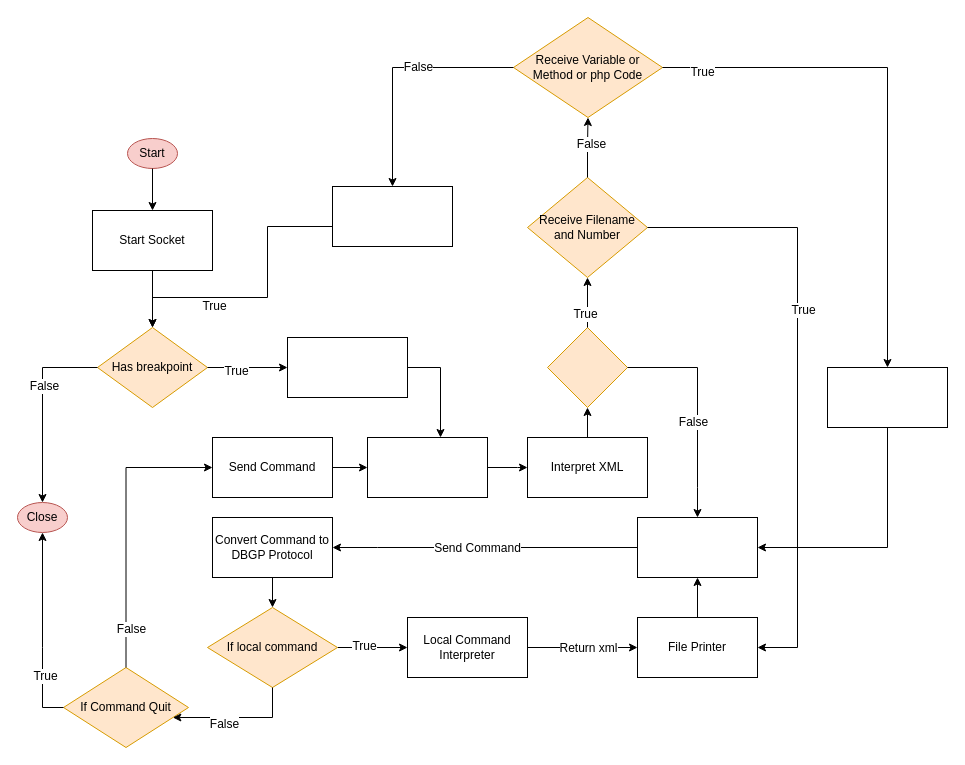
This 965x765 diagram has some shape labels left out. Here are the shapes that lost their labels. From the top down, the centre of each, then its label:
the point at 392,216: Command run
the point at 347,367: Stop in Breakpoint
the point at 587,367: Success
the point at 887,397: Print Result
the point at 427,467: Receive XML
the point at 697,547: Wait Command
